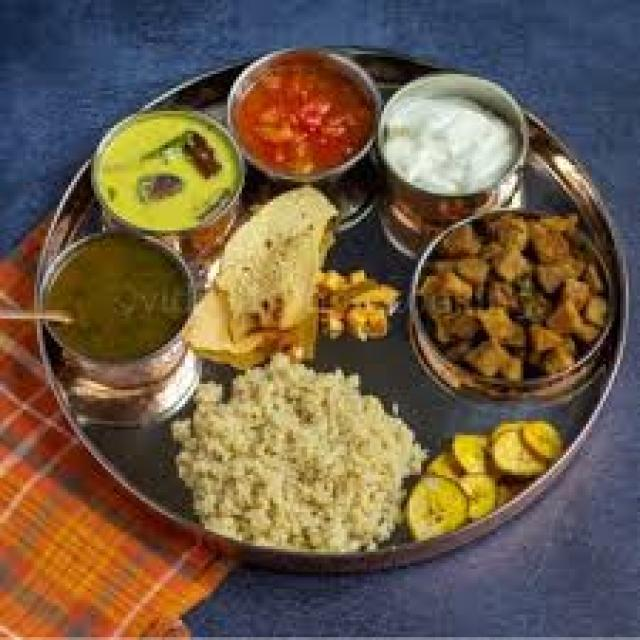dal: (29, 229, 196, 368)
papad: (177, 347, 410, 557), (187, 191, 338, 368)
rice: (181, 346, 409, 550), (383, 95, 524, 203)
roti: (418, 208, 603, 399)
sweet: (315, 260, 405, 344)
veg-fry: (225, 48, 380, 176)
